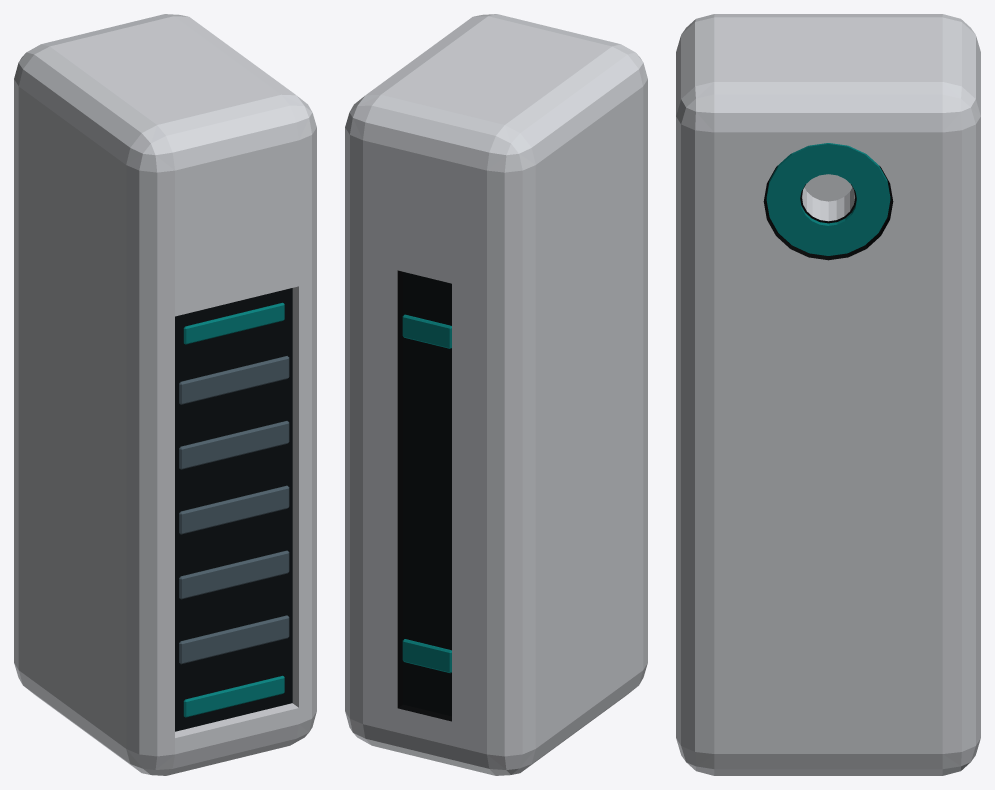
Rendered from leg_link.obj.
3 views of the same model, side by side, from view 1: azimuth 30°, elevation 25°; view 2: azimuth 150°, elevation 25°; view 3: azimuth 270°, elevation 25° (orthographic). The views are drawn at different scales.
Visible parts, largest first — view 1: leg_link; view 2: leg_link; view 3: leg_link.
Part boxes in pixels (box(x1,y1,x2,y2)): leg_link: box(14, 14, 316, 775); leg_link: box(345, 14, 647, 775); leg_link: box(676, 14, 980, 775).
Bounding box in the file's own units: 0.012 × 0.04 × 0.016.
